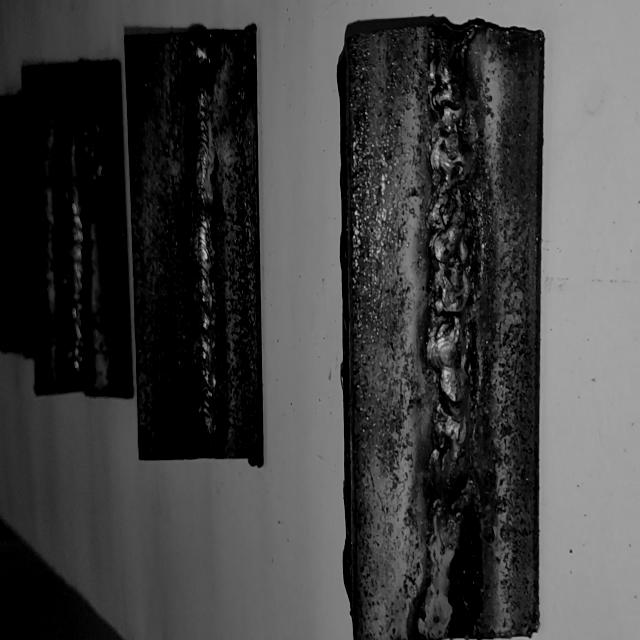Bad Weld: (431, 33, 478, 627), (188, 40, 212, 442), (63, 84, 83, 380)
Defect: (425, 41, 482, 422), (422, 441, 486, 629), (52, 108, 108, 198), (184, 36, 217, 114)
